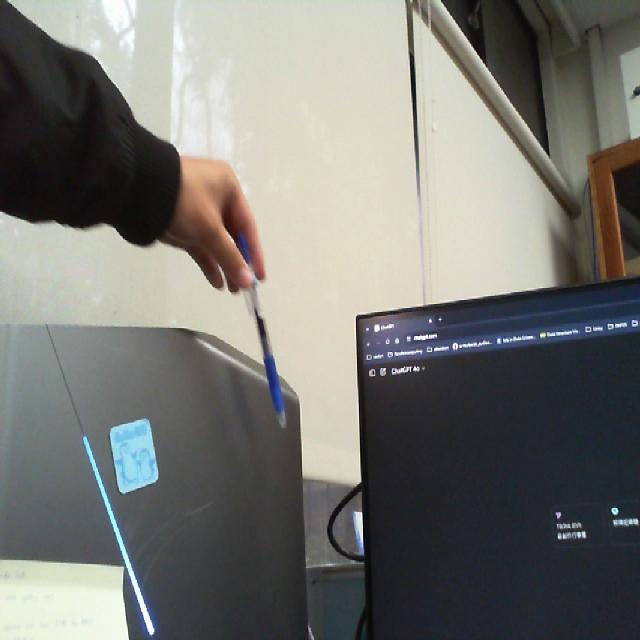Pen: (228, 187, 301, 444)
